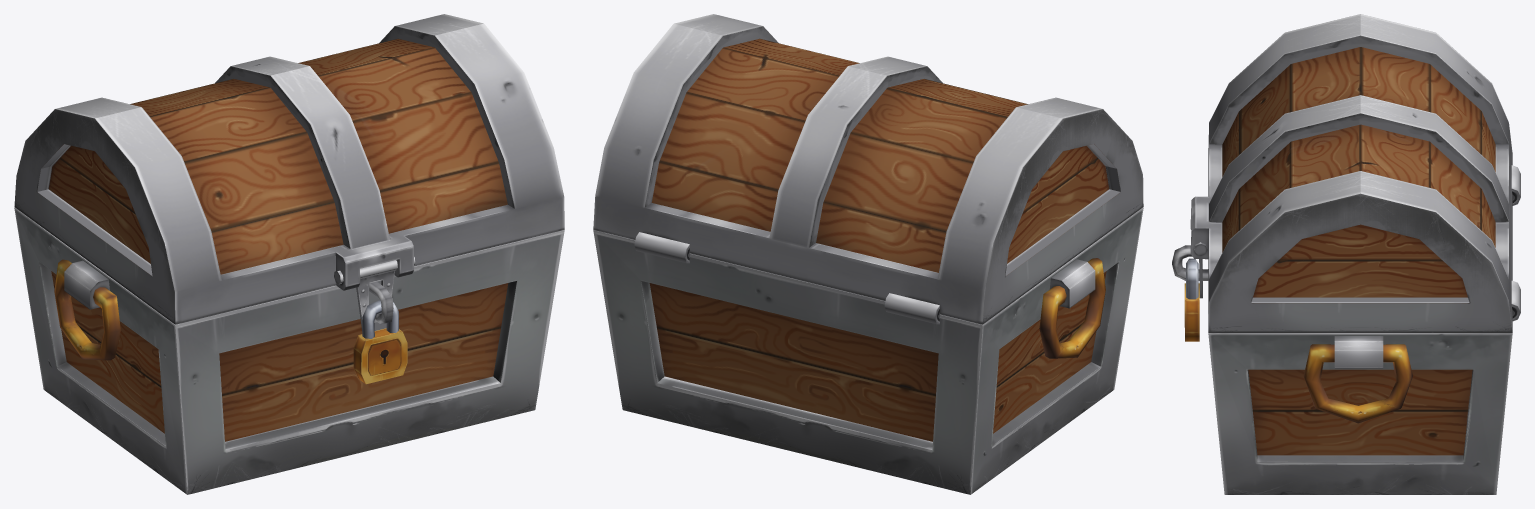
Rendered from sandık.fbx.
The picture shows the model from 3 angles, left to right: view 1: azimuth 30°, elevation 25°; view 2: azimuth 150°, elevation 25°; view 3: azimuth 270°, elevation 25°; orthographic projection. The views are drawn at different scales.
Visible parts, largest first — view 1: Box001; view 2: Box001; view 3: Box001.
Part boxes in pixels (x1=…): Box001: x1=14, y1=14, x2=564, y2=494; Box001: x1=593, y1=14, x2=1143, y2=494; Box001: x1=1172, y1=14, x2=1520, y2=494.
Bounding box in the file's own units: 294 × 217 × 221.
1 material, 1 textured.
